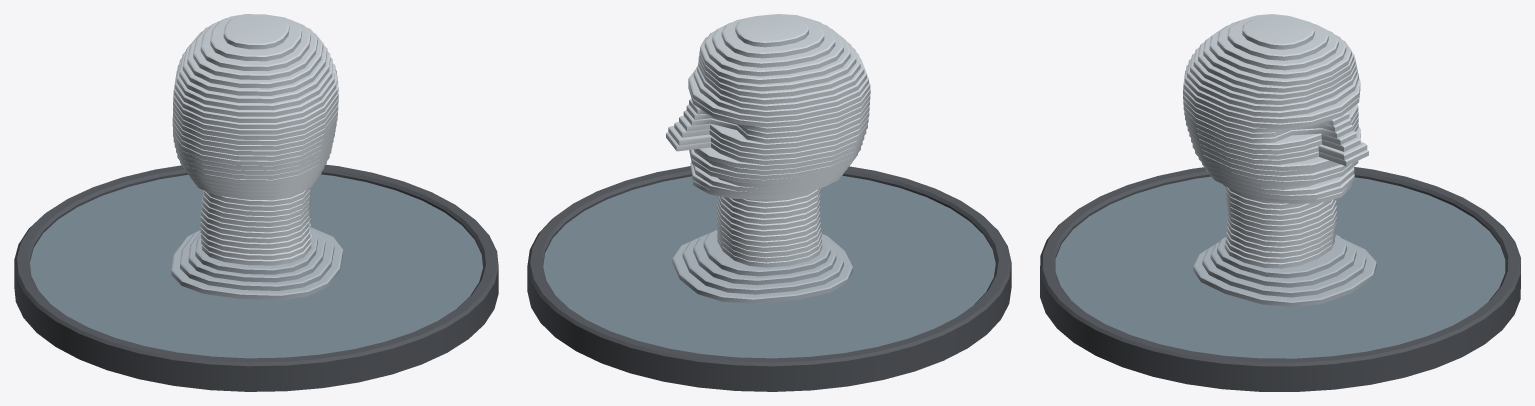
The model's file is detail.glb.
3 renders of one model, left to right at view 1: azimuth 30°, elevation 25°; view 2: azimuth 150°, elevation 25°; view 3: azimuth 270°, elevation 25°, orthographic.
Visible parts, largest first — view 1: metalmorphosis-charlotte; view 2: metalmorphosis-charlotte; view 3: metalmorphosis-charlotte.
Part boxes in pixels (x1=…): metalmorphosis-charlotte: x1=14, y1=14, x2=498, y2=391; metalmorphosis-charlotte: x1=527, y1=14, x2=1011, y2=391; metalmorphosis-charlotte: x1=1040, y1=14, x2=1520, y2=391.
Size of the model in its own units: 13.97 by 8.35 by 13.97.
